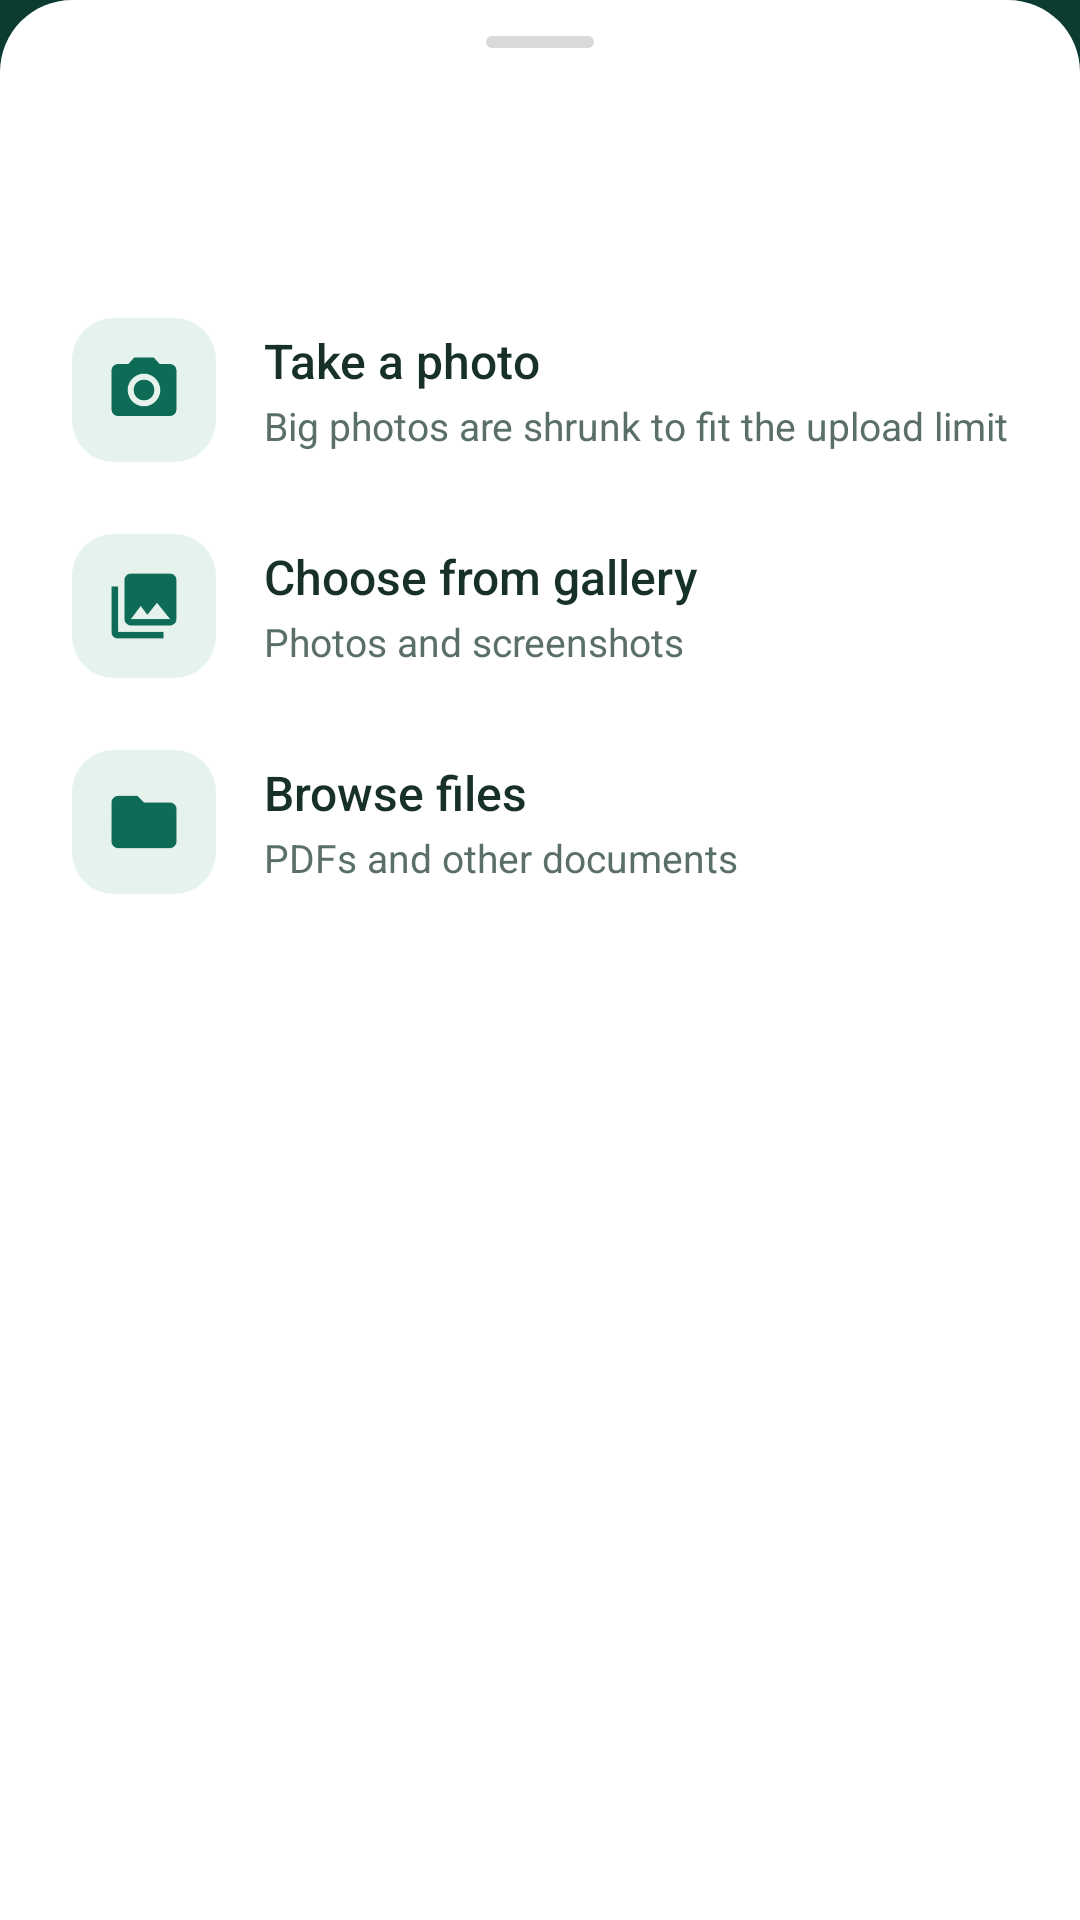

Locate icon controls on the screen. Image size 1080x1920, boxes as (x1, y1, x2, y2).
camera: (72, 318, 216, 462)
folder: (72, 750, 216, 894)
photo library: (72, 534, 216, 678)
